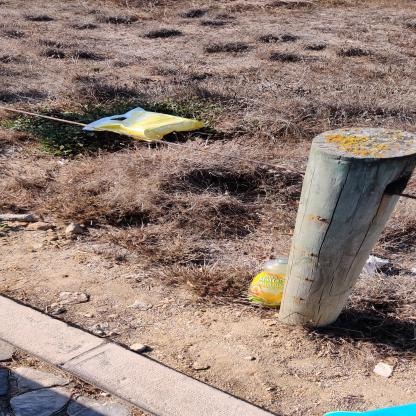plastik: (82, 109, 208, 143), (248, 258, 294, 307)
